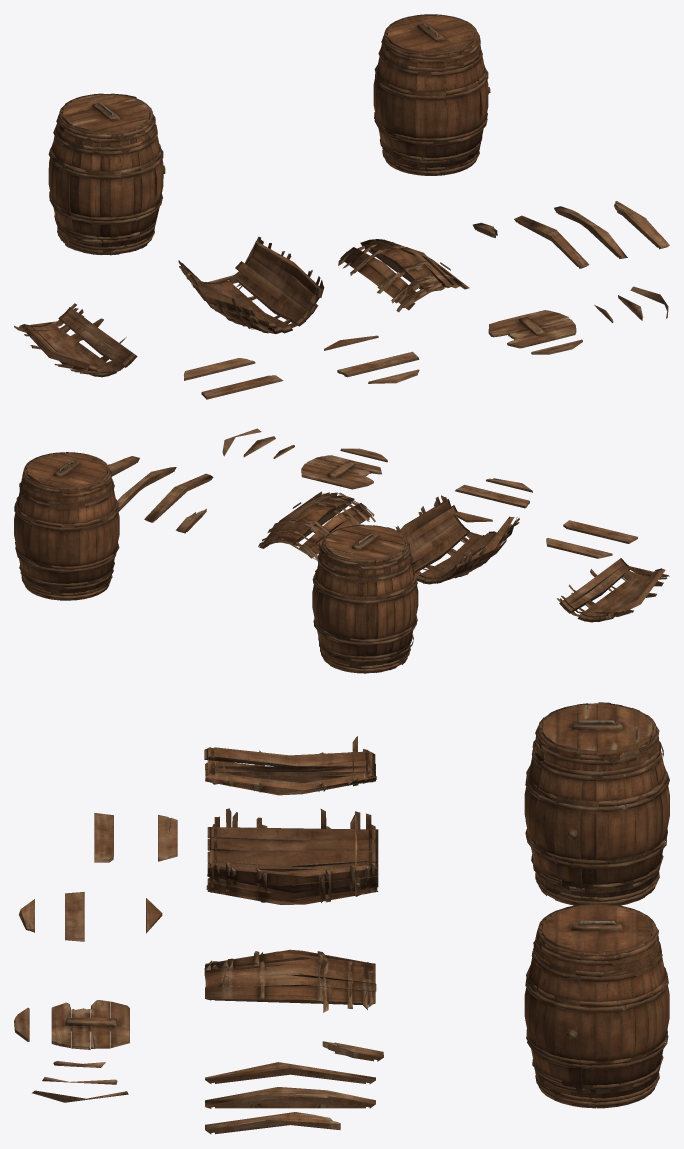
File: wooden_barrels_01.glb
The picture shows the model from 3 angles, top to bottom: view 1: azimuth 30°, elevation 25°; view 2: azimuth 150°, elevation 25°; view 3: azimuth 270°, elevation 25°; orthographic projection. The views are drawn at different scales.
Visible parts, largest first — view 1: wooden_barrels_01_piece01, wooden_barrels_01_barrel01, wooden_barrels_01_barrel02; view 2: wooden_barrels_01_piece01, wooden_barrels_01_barrel02, wooden_barrels_01_barrel01; view 3: wooden_barrels_01_piece01, wooden_barrels_01_barrel01, wooden_barrels_01_barrel02.
Boxes of the visible parts, bbox=[...] form: wooden_barrels_01_piece01: bbox=[14, 201, 669, 399]; wooden_barrels_01_barrel01: bbox=[373, 14, 490, 175]; wooden_barrels_01_barrel02: bbox=[48, 93, 165, 255]; wooden_barrels_01_piece01: bbox=[108, 428, 669, 622]; wooden_barrels_01_barrel02: bbox=[312, 524, 418, 673]; wooden_barrels_01_barrel01: bbox=[14, 452, 119, 600]; wooden_barrels_01_piece01: bbox=[14, 736, 383, 1134]; wooden_barrels_01_barrel01: bbox=[524, 903, 669, 1108]; wooden_barrels_01_barrel02: bbox=[524, 702, 669, 905].
Bounding box in the file's own units: 4.44 × 0.953 × 3.34.
Materials: 3 (3 with a texture image).
